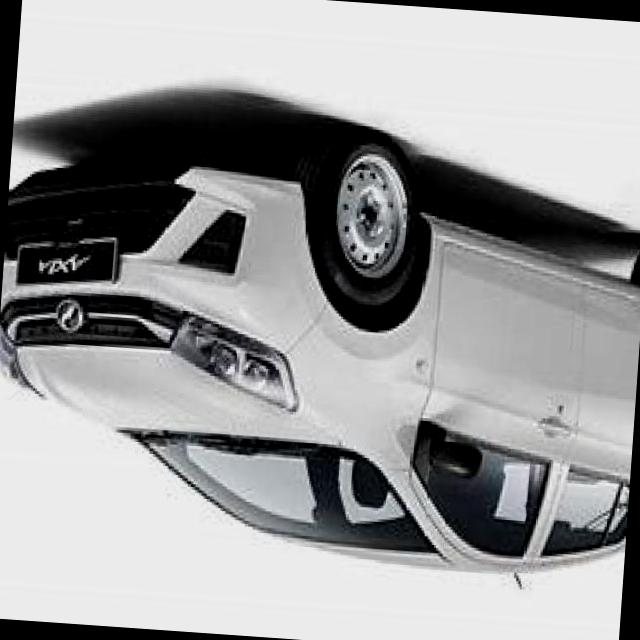PeroduaAxia: (0, 103, 640, 593)
